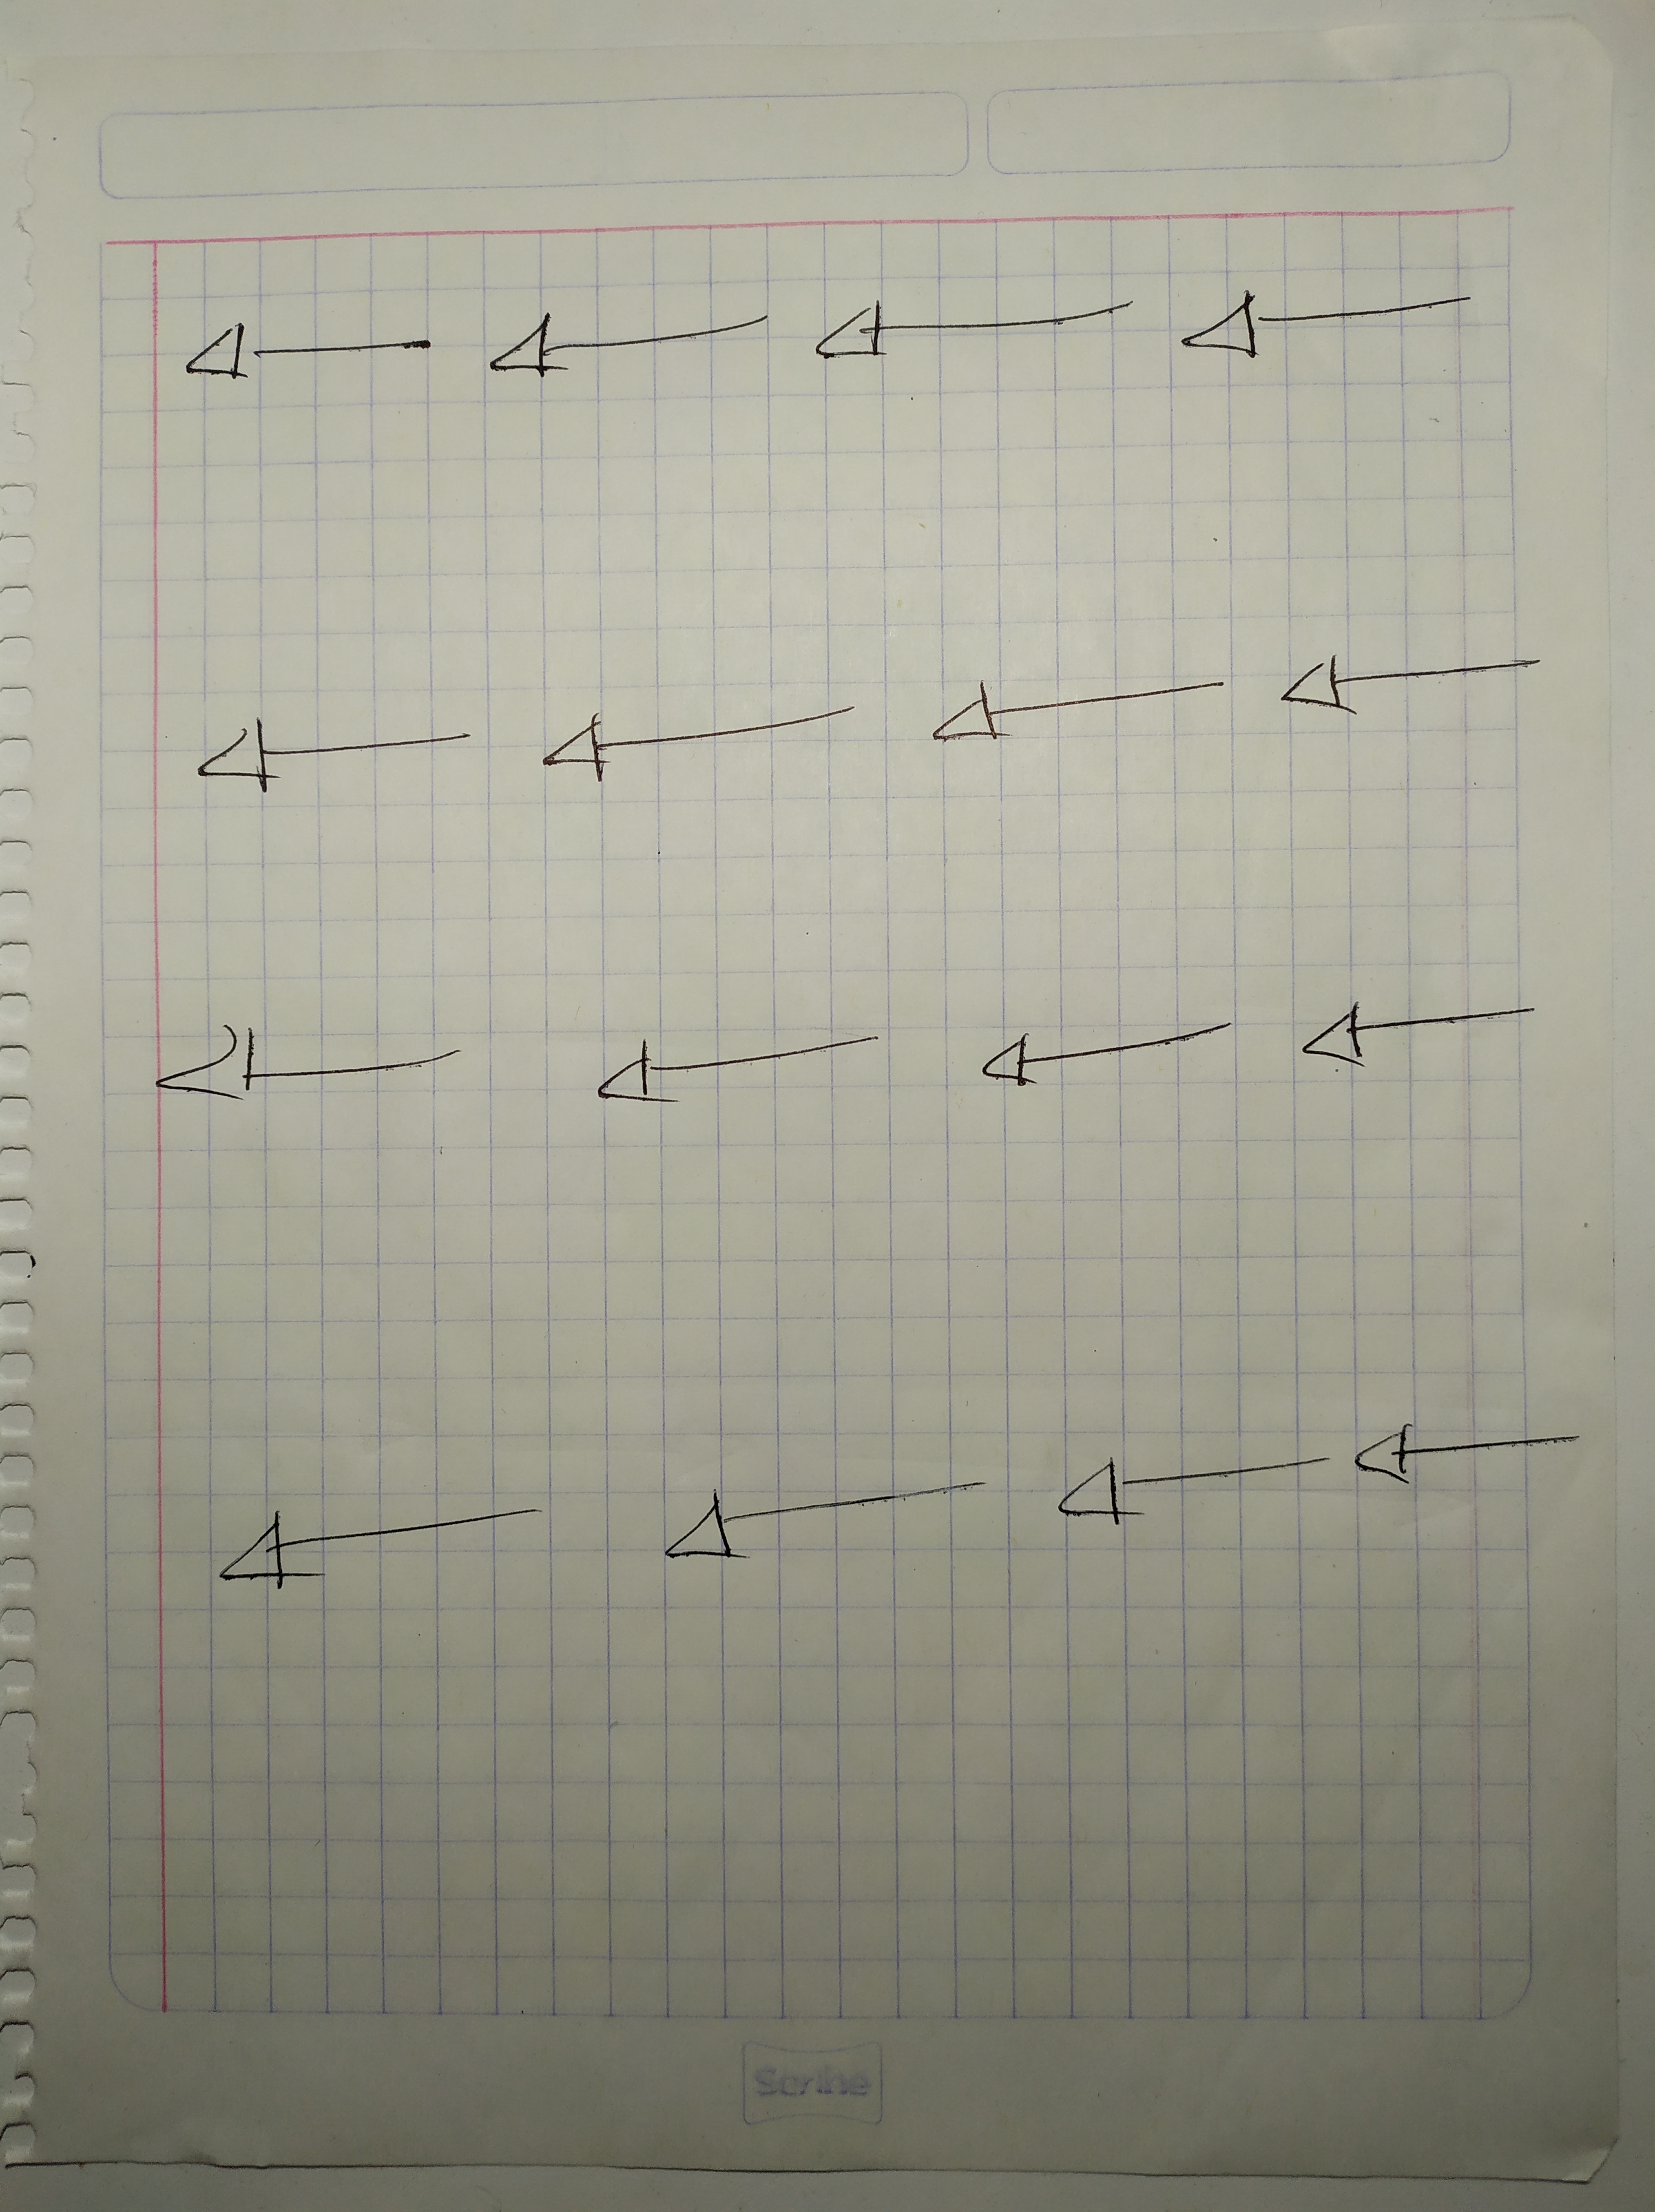arrow_line_left: (130, 1006, 502, 1129), (196, 1498, 582, 1607), (558, 1015, 921, 1126), (645, 1474, 1008, 1583), (803, 292, 1161, 396), (143, 297, 462, 414), (528, 686, 871, 789), (482, 302, 796, 414), (1175, 285, 1497, 387), (965, 1003, 1262, 1110), (1045, 1442, 1344, 1548), (1285, 978, 1573, 1088), (909, 667, 1255, 758), (177, 707, 501, 796), (1266, 648, 1570, 728), (1347, 1416, 1606, 1505)
